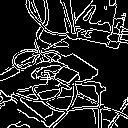cube: (51, 61, 83, 90)
